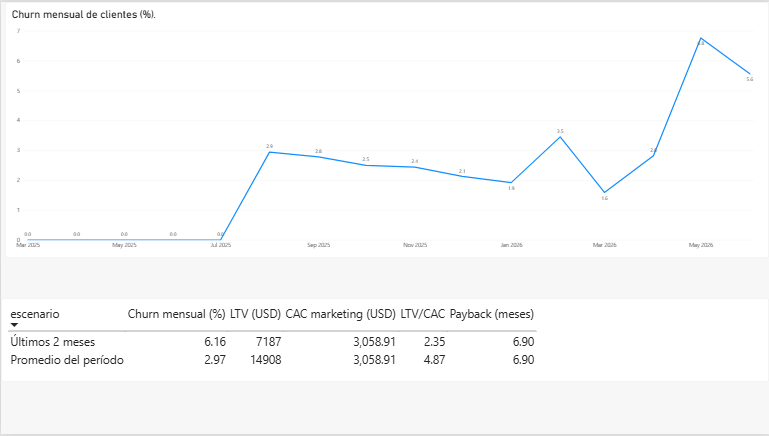

The dashboard page shown, as its layout file describes it:
{"tool":"powerbi","page":{"name":"Clientes: churn y unit economics","canvas":[1920,1080],"ordinal":1},"visuals":[{"type":"lineChart","title":"Churn mensual de clientes (%).","fields":{"Category":["churn_mensual.month.Variation.Jerarquía de fechas.Año","churn_mensual.month.Variation.Jerarquía de fechas.Trimestre","churn_mensual.month.Variation.Jerarquía de fechas.Mes","churn_mensual.month.Variation.Jerarquía de fechas.Día"],"Y":["Sum(churn_mensual.churn_mensual_pct)"]},"box":[10,0,1910,640],"z":0},{"type":"tableEx","fields":{"Values":["unit_economics.escenario","Sum(unit_economics.churn_mensual_pct)","Sum(unit_economics.ltv_usd)","Sum(unit_economics.cac_marketing_usd)","Sum(unit_economics.ltv_cac)","Sum(unit_economics.payback_meses)"]},"box":[0,740,1920,210],"z":1}]}

Visuals, with their boxes in screenshot pixels (x1, y1, x2, y2), scaled from the page's 1920x1080 canvas onto the 769x436 screenshot:
"Churn mensual de clientes (%)." lineChart: region(4, 0, 768, 258)
tableEx - unit_economics.escenario x Sum(unit_economics.churn_mensual_pct): region(0, 299, 768, 384)
